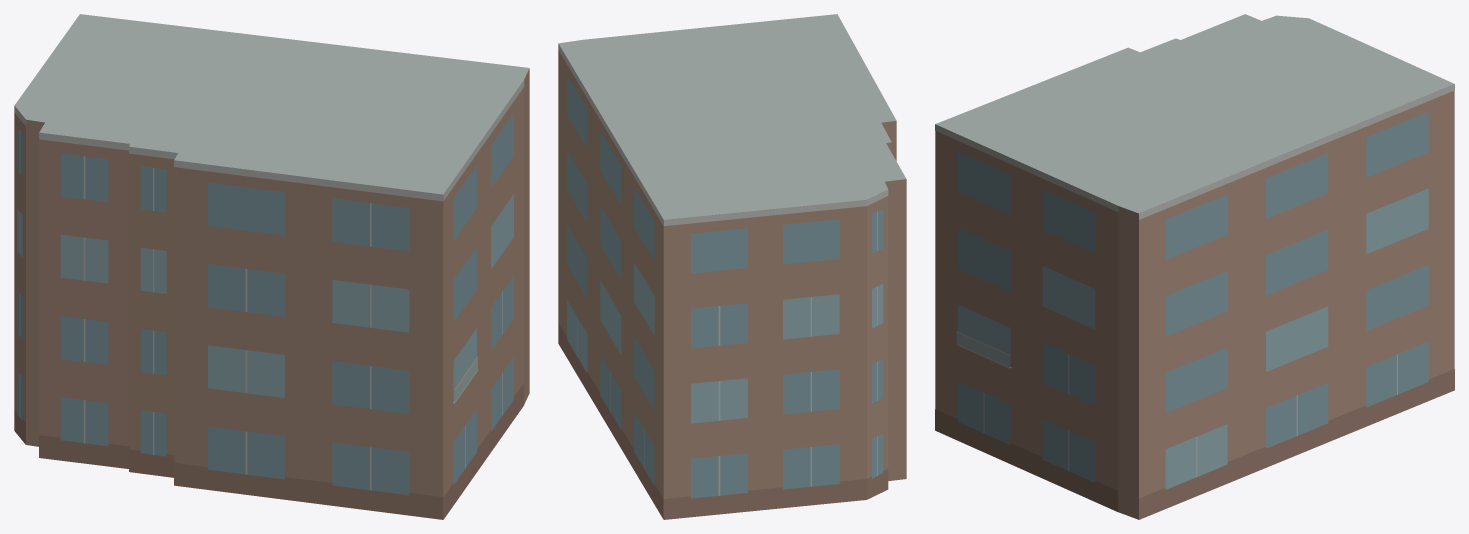
File: survey-upis-32891644.glb
The picture shows the model from 3 angles, left to right: view 1: azimuth 30°, elevation 25°; view 2: azimuth 150°, elevation 25°; view 3: azimuth 270°, elevation 25°; orthographic projection. The views are drawn at different scales.
Parts seen in each view (by area): view 1: survey-upis-32891644.tmp; view 2: survey-upis-32891644.tmp; view 3: survey-upis-32891644.tmp.
Boxes of the visible parts, <box> form: survey-upis-32891644.tmp: <box>14,14,529,519</box>; survey-upis-32891644.tmp: <box>558,14,906,519</box>; survey-upis-32891644.tmp: <box>935,14,1454,519</box>.
Size of the model in its own units: 16.28 by 11.65 by 17.92.
